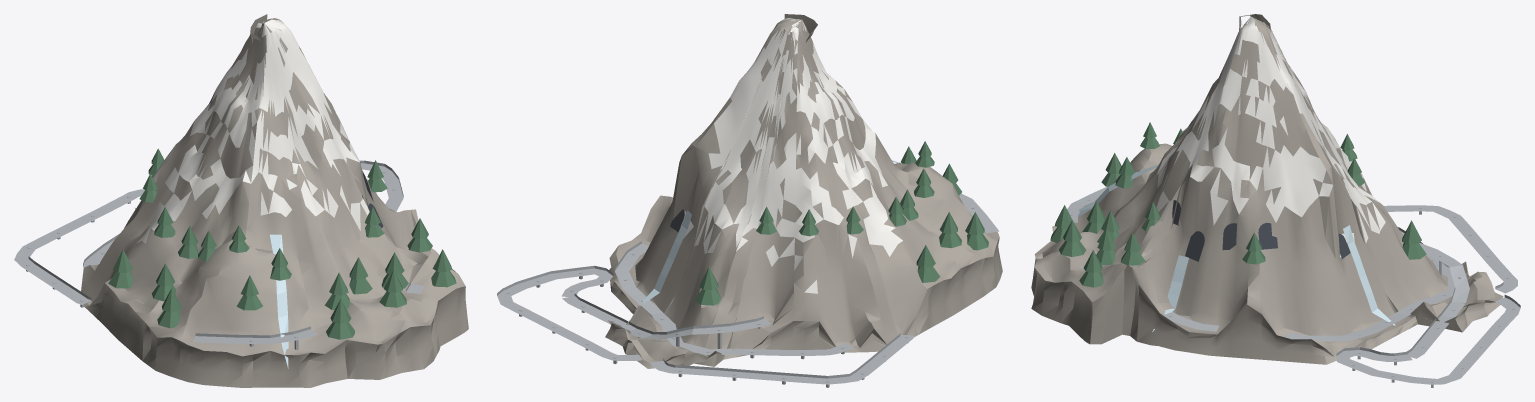
Rendered from dlr-matterhorn.glb.
3 renders of one model, left to right at view 1: azimuth 30°, elevation 25°; view 2: azimuth 150°, elevation 25°; view 3: azimuth 270°, elevation 25°, orthographic. The views are drawn at different scales.
Visible parts, largest first — view 1: Matterhorn Bobsleds; view 2: Matterhorn Bobsleds; view 3: Matterhorn Bobsleds.
Part boxes in pixels (box(x1,y1,x2,y2)): Matterhorn Bobsleds: box(14, 14, 468, 387); Matterhorn Bobsleds: box(497, 14, 1002, 387); Matterhorn Bobsleds: box(1031, 14, 1520, 387).
Size of the model in its own units: 64.39 by 45.1 by 74.19.
